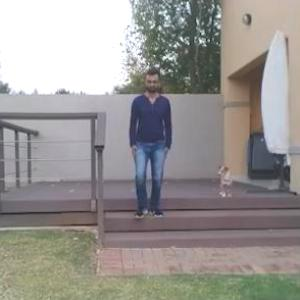follow: (126, 64, 167, 226)
